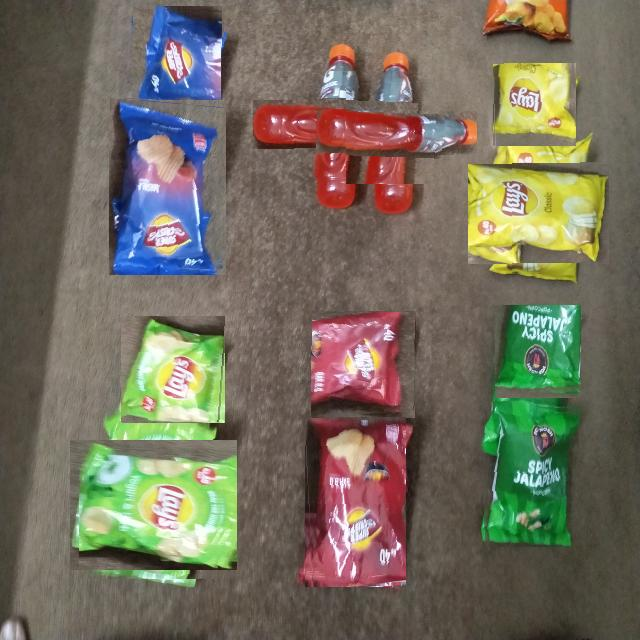Plastic: (79, 431, 227, 579), (109, 97, 226, 275), (304, 417, 406, 587), (478, 153, 599, 274), (478, 403, 579, 547), (282, 71, 391, 179), (121, 317, 227, 422), (311, 312, 416, 418), (346, 82, 448, 184), (132, 7, 224, 100), (493, 305, 581, 398), (492, 63, 576, 146)
